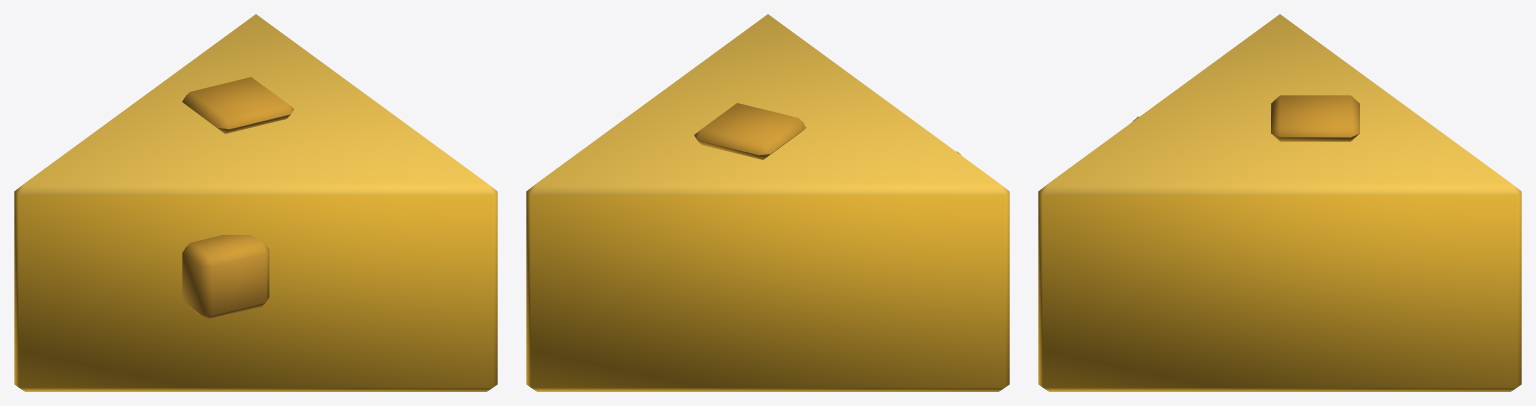
Rendered from P_MedCheeseWedge.fbx.
The picture shows the model from 3 angles, left to right: view 1: azimuth 30°, elevation 25°; view 2: azimuth 150°, elevation 25°; view 3: azimuth 270°, elevation 25°; orthographic projection.
Visible parts, largest first — view 1: M_CheeseWedge; view 2: M_CheeseWedge; view 3: M_CheeseWedge.
Part boxes in pixels (bbox=[...]): M_CheeseWedge: bbox=[14, 14, 497, 391]; M_CheeseWedge: bbox=[526, 14, 1009, 391]; M_CheeseWedge: bbox=[1038, 14, 1521, 391].
Size of the model in its own units: 0.2357 by 0.14 by 0.2721.
1 material, 1 textured.
